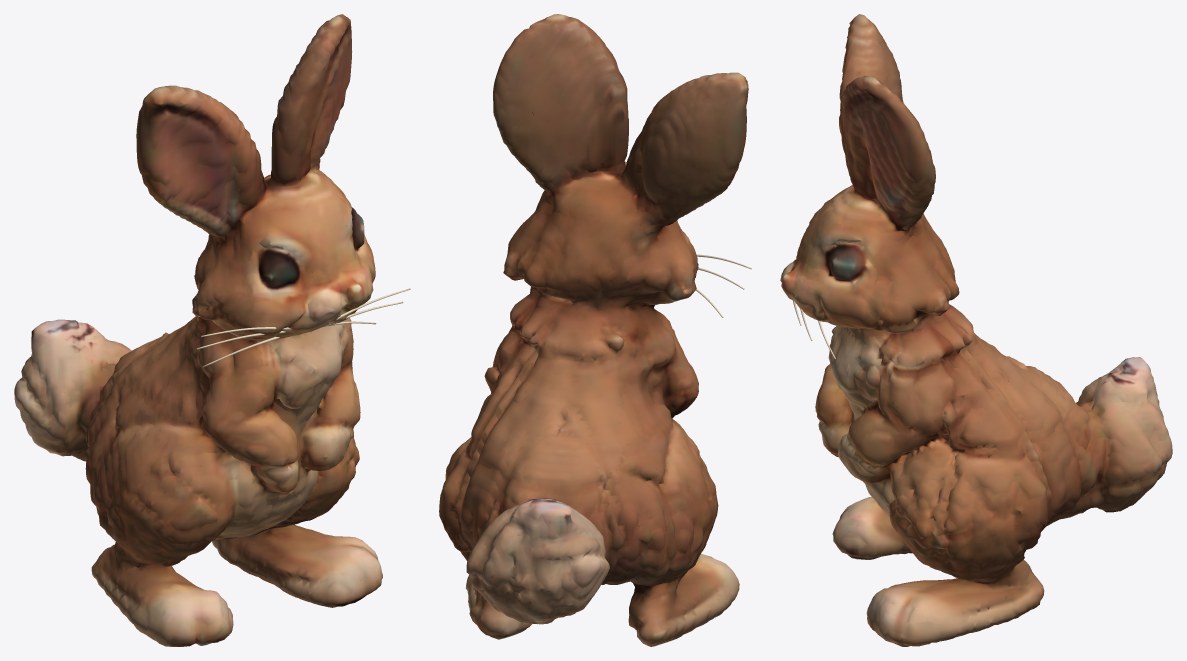
File: asset.glb
The picture shows the model from 3 angles, left to right: view 1: azimuth 30°, elevation 25°; view 2: azimuth 150°, elevation 25°; view 3: azimuth 270°, elevation 25°; orthographic projection. The views are drawn at different scales.
Parts seen in each view (by area): view 1: Rabbit_Neural_Body; view 2: Rabbit_Neural_Body; view 3: Rabbit_Neural_Body.
Boxes of the visible parts, <box> form: Rabbit_Neural_Body: <box>14,14,382,646</box>; Rabbit_Neural_Body: <box>439,14,748,646</box>; Rabbit_Neural_Body: <box>780,14,1172,646</box>.
Size of the model in its own units: 1.66 by 3.6 by 2.34.
2 materials, 1 textured.
